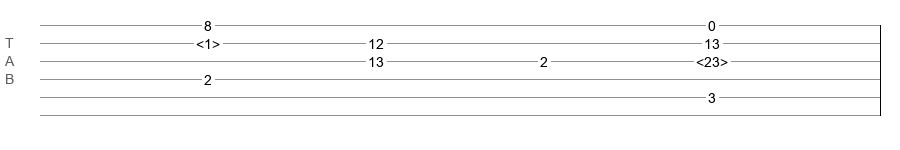0: (708, 18, 716, 28)
12: (368, 36, 384, 46)
13: (368, 54, 384, 64), (704, 36, 720, 46)
2: (204, 72, 212, 82), (540, 54, 548, 64)
3: (708, 90, 716, 100)
8: (204, 18, 212, 28)
harmonic: (696, 54, 728, 64), (196, 36, 220, 46)
